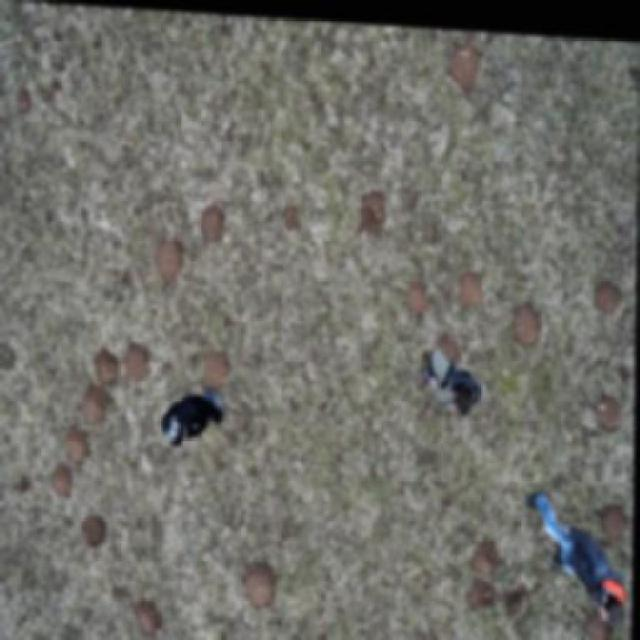Person: (528, 475, 632, 620), (145, 376, 230, 450), (425, 330, 489, 416)
